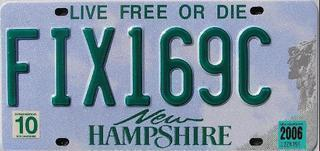placa de veiculo: (3, 1, 305, 147)
